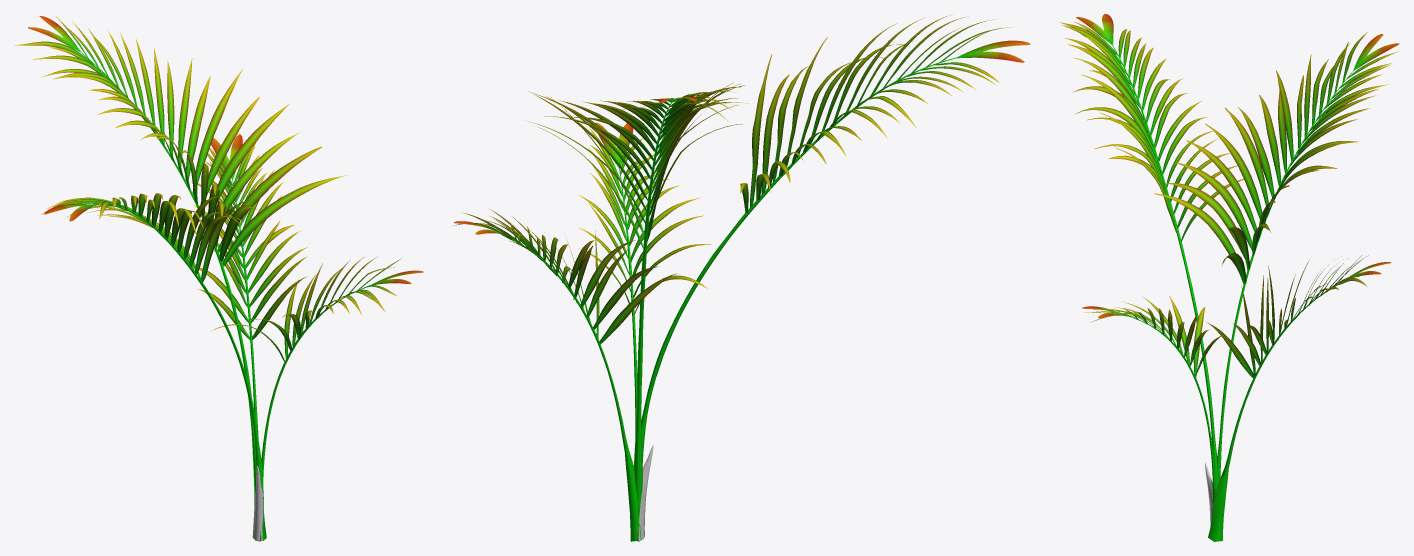
Rendered from Alexandra Palm_LOD1_Var3_ukgkcilia.fbx.
3 renders of one model, left to right at view 1: azimuth 30°, elevation 25°; view 2: azimuth 150°, elevation 25°; view 3: azimuth 270°, elevation 25°, orthographic. The views are drawn at different scales.
Parts seen in each view (by area): view 1: _d29q_Var3_LOD1; view 2: _d29q_Var3_LOD1; view 3: _d29q_Var3_LOD1.
Part boxes in pixels (x1,y1,x2,y2): _d29q_Var3_LOD1: [15, 16, 423, 541]; _d29q_Var3_LOD1: [453, 14, 1030, 541]; _d29q_Var3_LOD1: [1059, 14, 1399, 541].
Bounding box in the file's own units: 57.08 × 69.68 × 48.63.
